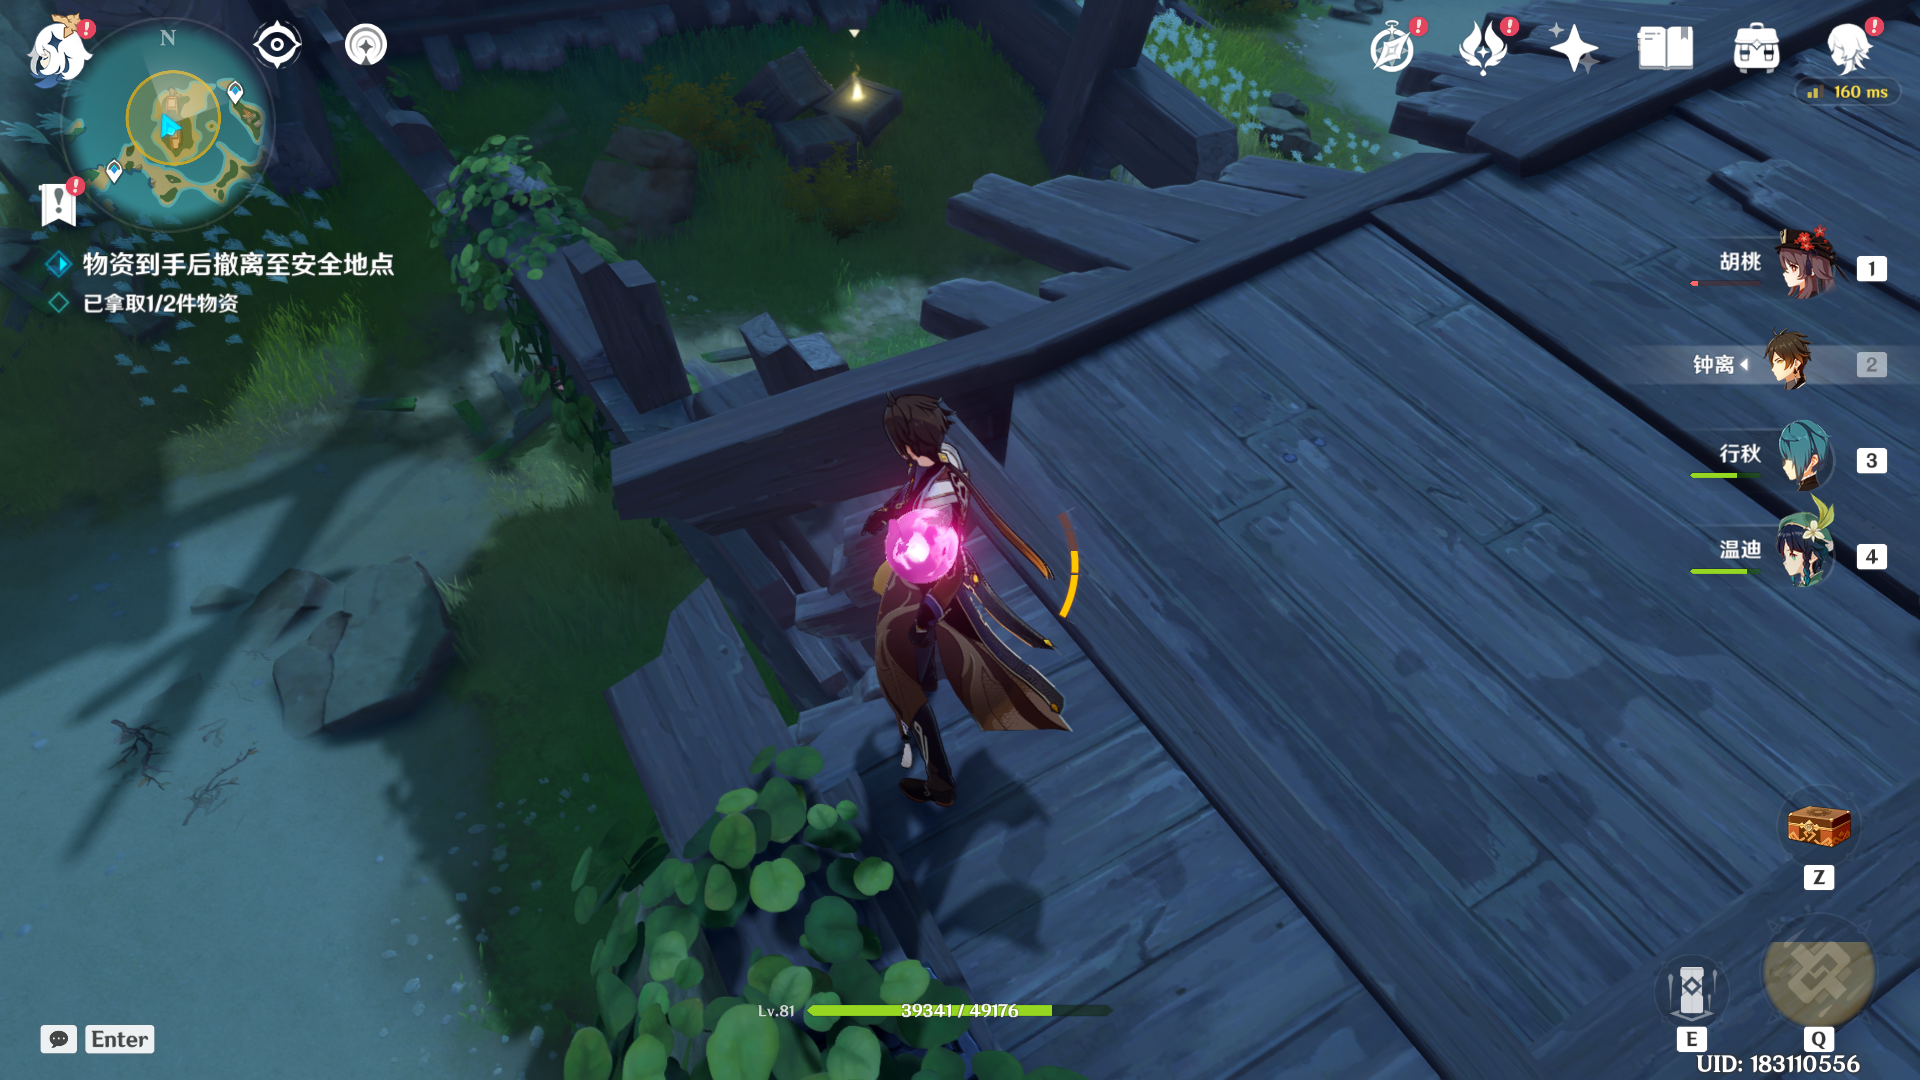character: (762, 349, 1143, 876)
